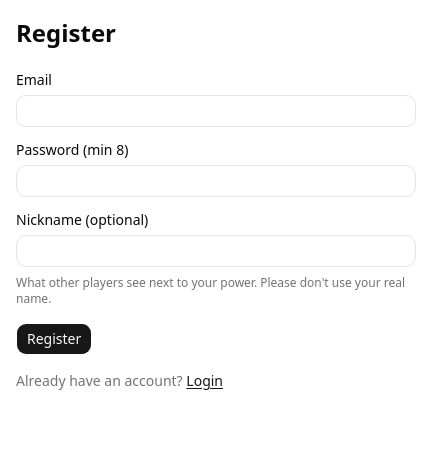
Register › shows error on registration failure
The width and height of the screenshot is (433, 461).
Expected: the heading "Register" is shown, [16,16,116,49]
Type "a@b.com" into the field with id "email" at (216, 111), box [16,95,416,127]
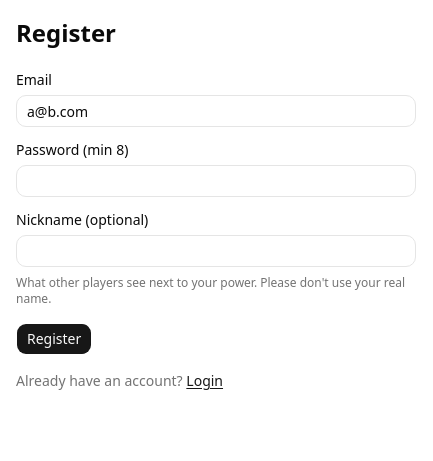
Type "password123" into the password field labelled "Password (min 8)" at (216, 181), box [16,165,416,197]
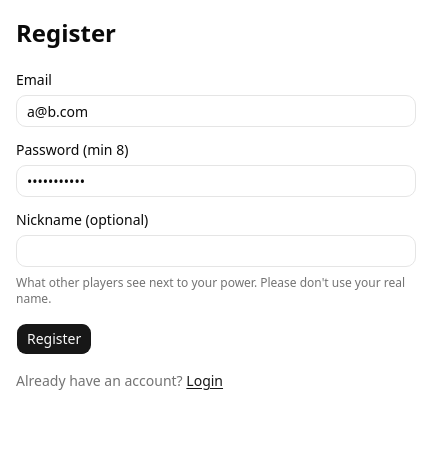
Click the button "Register" at (54, 339), box [16,323,92,355]
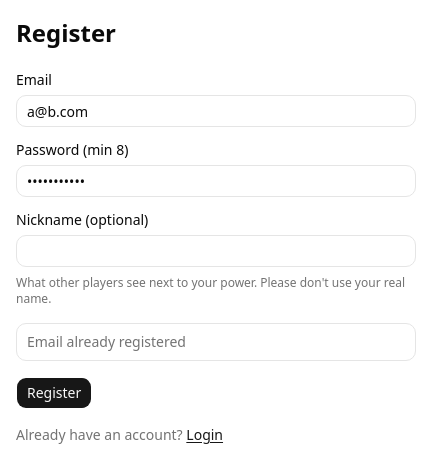
Now the message reads "Email already registered", box [27,332,186,351]
